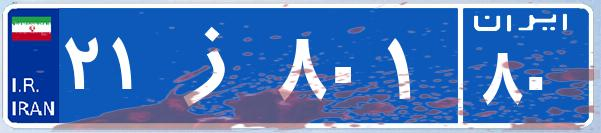0: (330, 28, 385, 110), (525, 38, 570, 115)
1: (385, 28, 445, 110), (110, 28, 158, 105)
2: (57, 26, 110, 107)
8: (273, 28, 330, 110), (475, 38, 525, 113)
ز: (158, 15, 273, 115)
